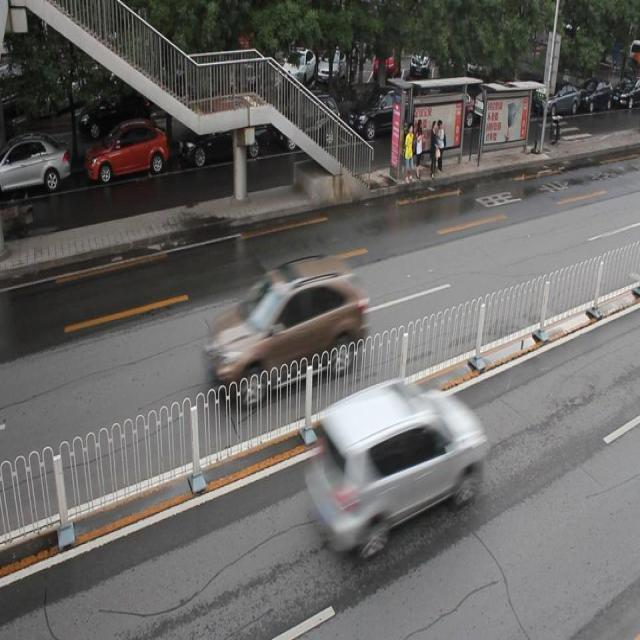car: (306, 382, 485, 557), (204, 256, 364, 404), (85, 118, 166, 184), (178, 107, 266, 163), (1, 137, 70, 197), (347, 84, 415, 142), (278, 92, 341, 153)
